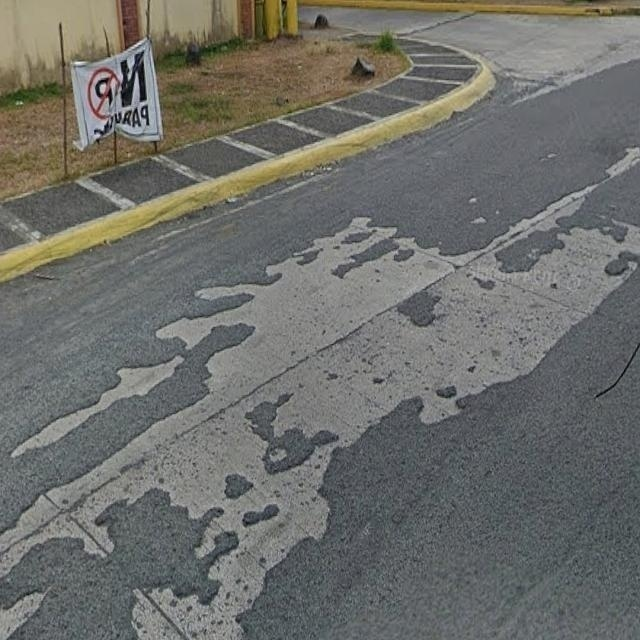pothole: (176, 207, 570, 549)
